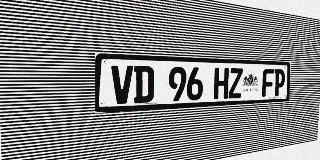6: (186, 67, 203, 101)
9: (169, 66, 187, 101)
D: (134, 66, 154, 103)
F: (262, 69, 274, 97)
H: (214, 68, 229, 99)
P: (273, 69, 285, 96)
V: (111, 65, 133, 104)
Z: (228, 68, 243, 98)
